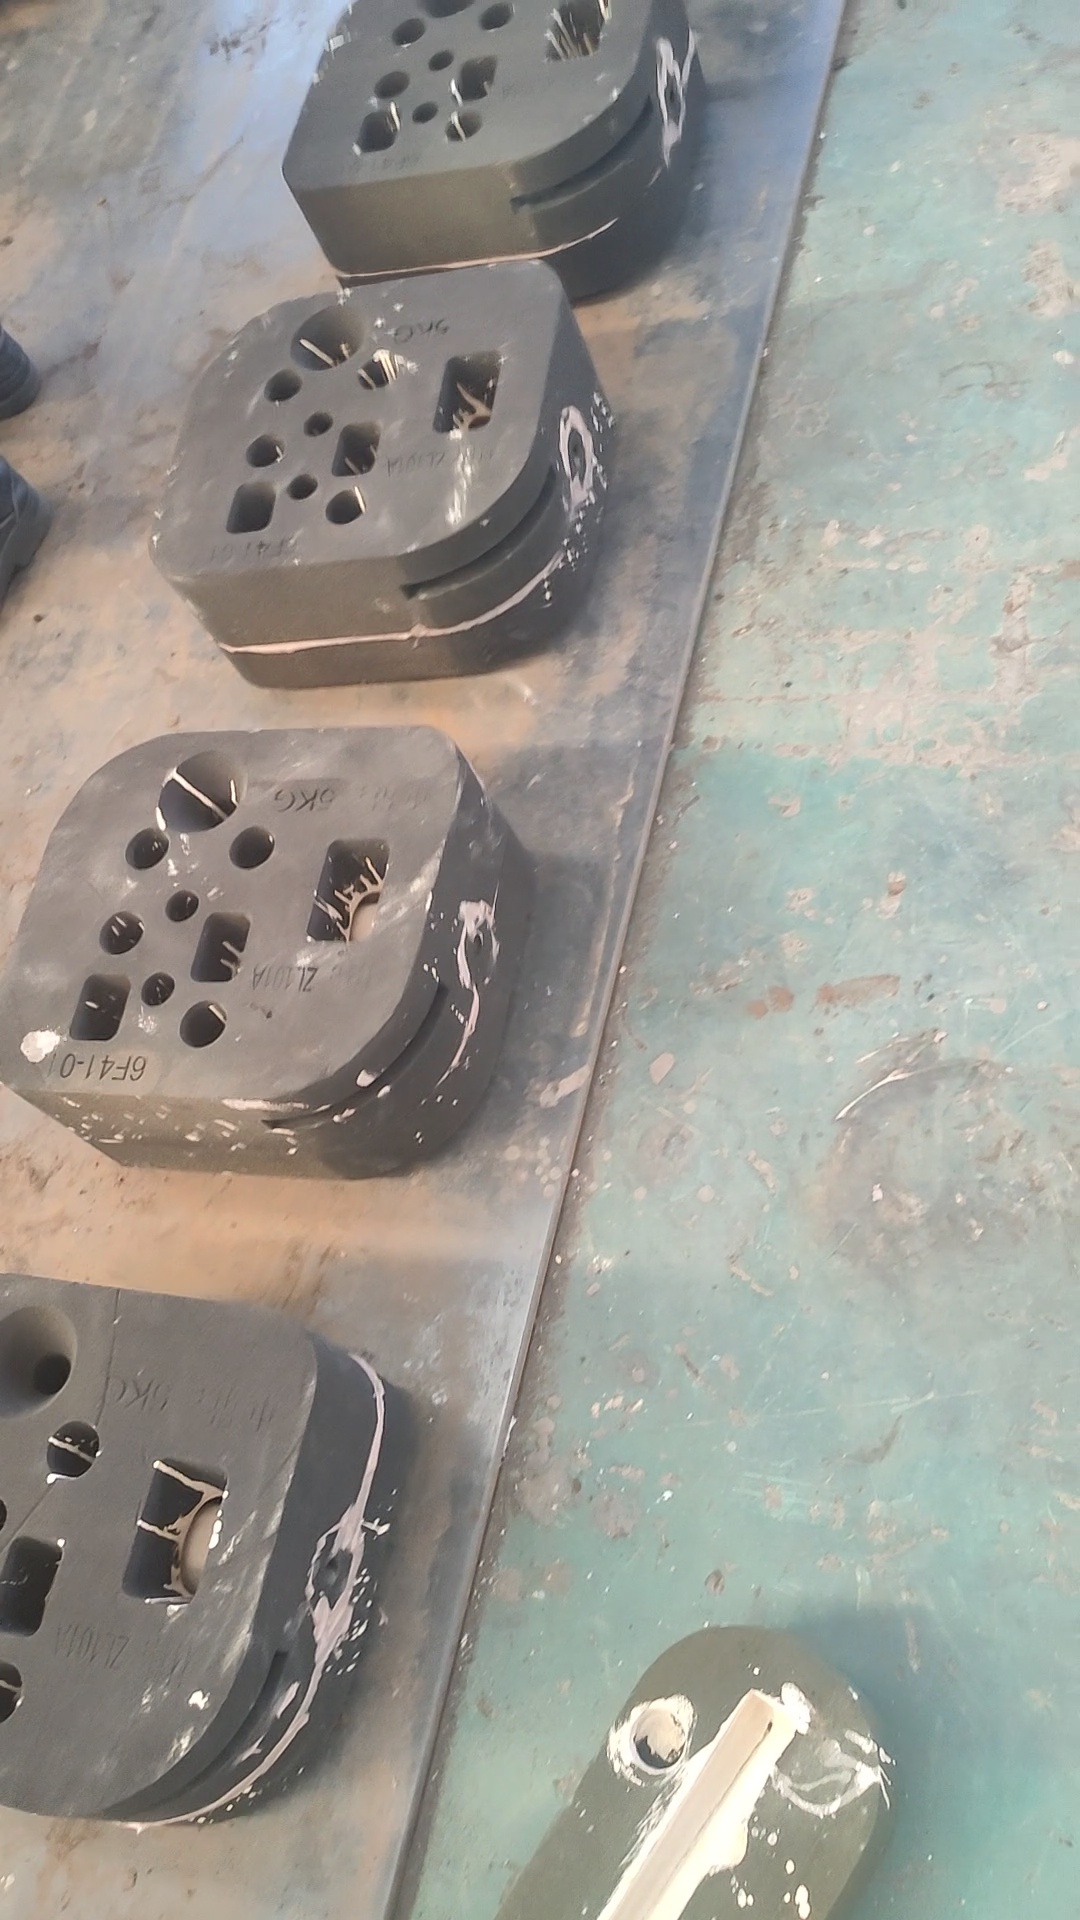pouring hole: (1, 1305, 79, 1424), (157, 750, 247, 833), (289, 302, 368, 372), (407, 1, 473, 17)
